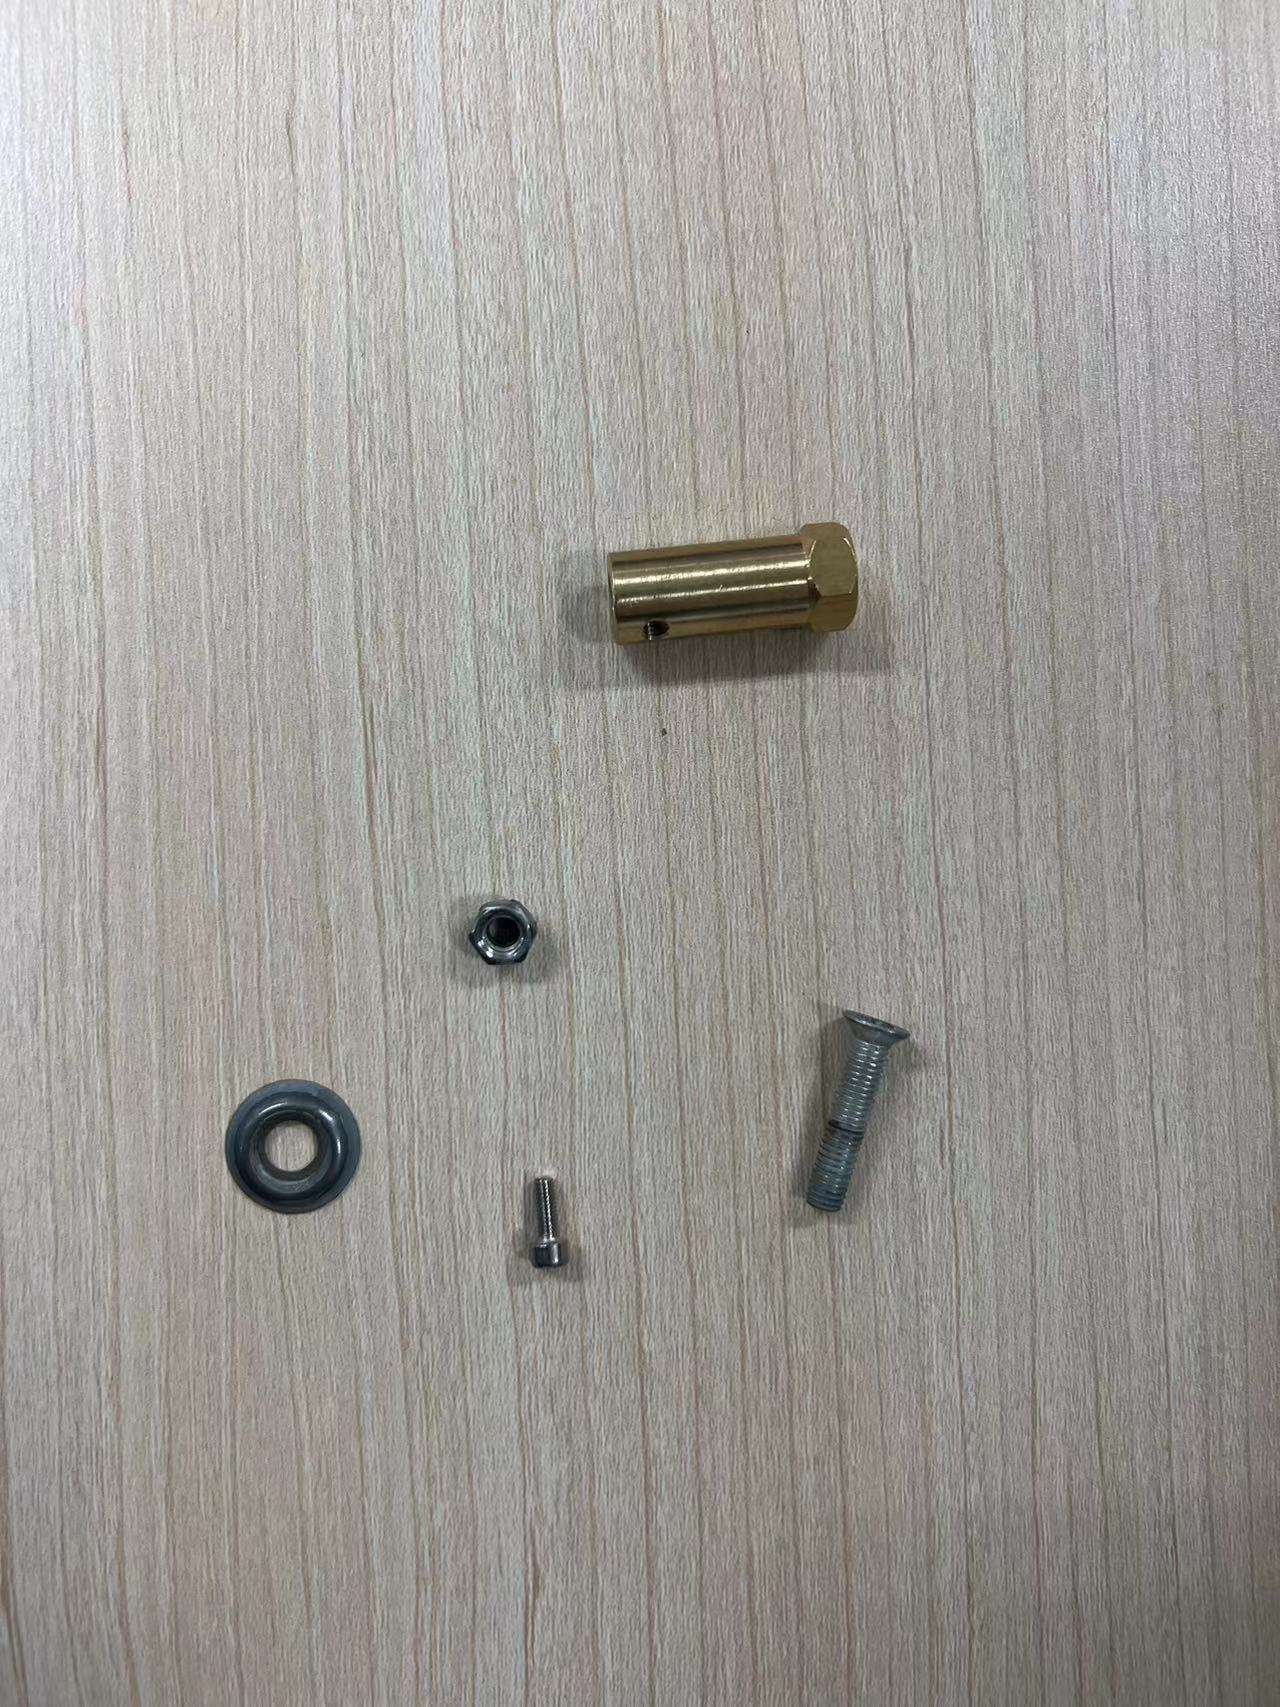Hexagon nut: (442, 880, 554, 980)
Hexagon pillar: (579, 513, 874, 660)
Round head screw: (789, 989, 918, 1233), (503, 1156, 600, 1290)
Spring washer: (208, 1058, 378, 1231)
